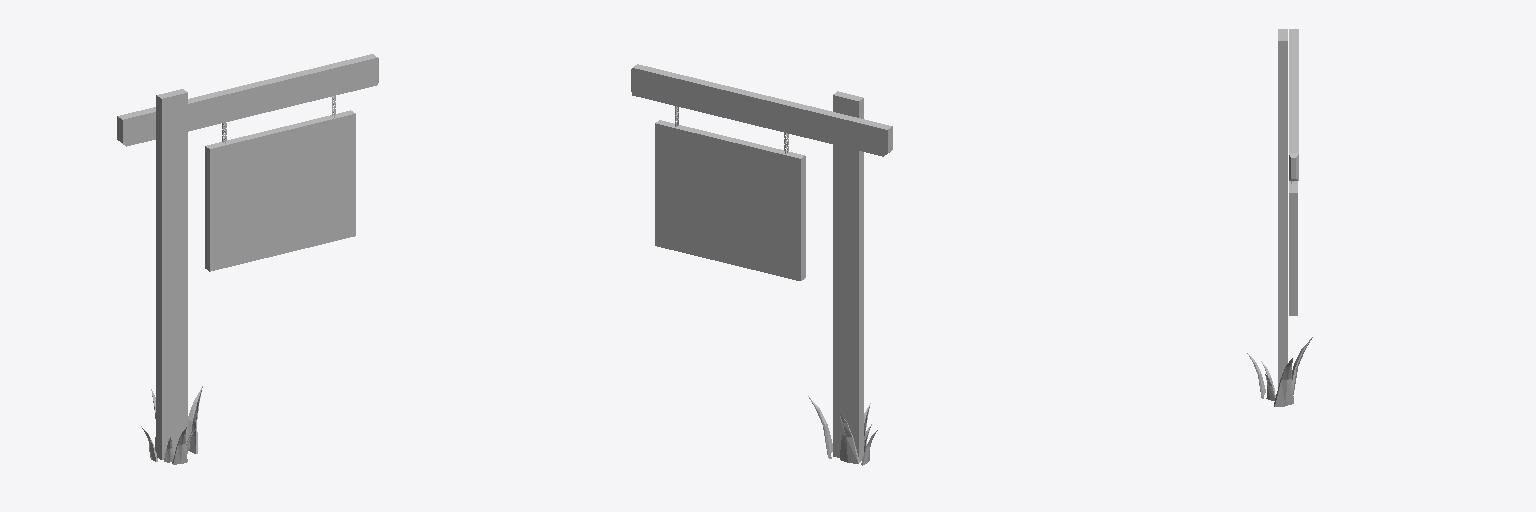
File: Sign9.obj
3 views of the same model, side by side, from view 1: azimuth 30°, elevation 25°; view 2: azimuth 150°, elevation 25°; view 3: azimuth 270°, elevation 25° (orthographic).
Visible parts, largest first — view 1: Sign9; view 2: Sign9; view 3: Sign9.
Boxes of the visible parts, x1=… form: Sign9: x1=117, y1=54, x2=378, y2=464; Sign9: x1=631, y1=64, x2=892, y2=465; Sign9: x1=1247, y1=29, x2=1312, y2=406.
Size of the model in its own units: 1.55 by 2.08 by 0.3487.